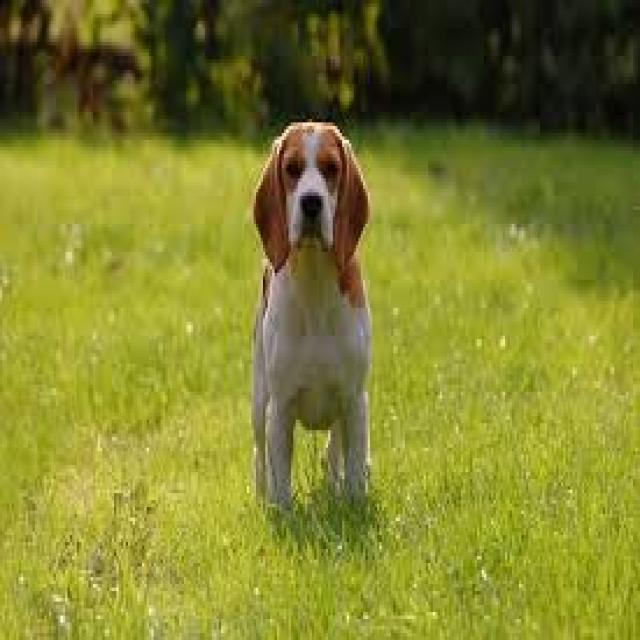Dog: (248, 115, 381, 521)
